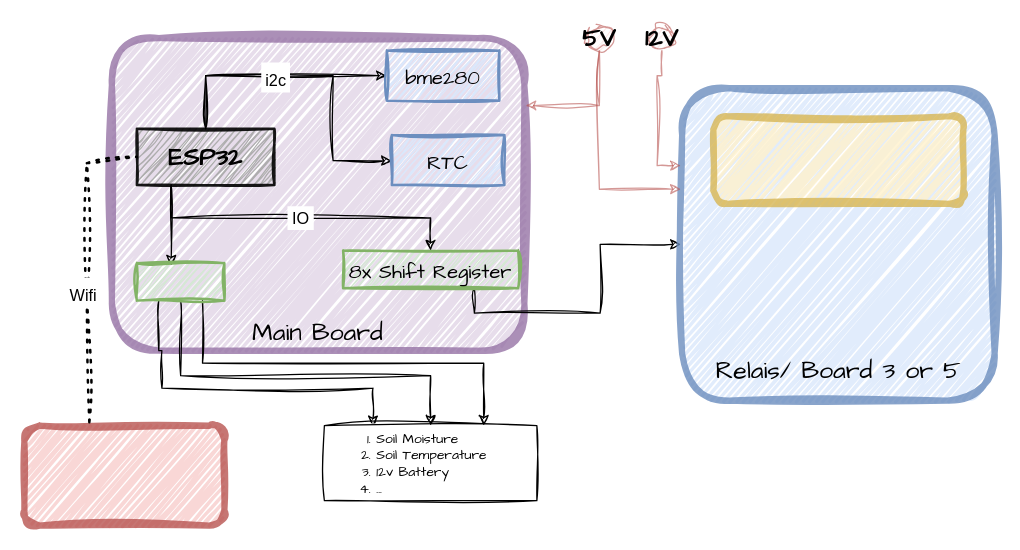
This 1020x550 diagram has some shape labels left out. Here are the shapes that lost their labels. From the top down, the centre of each, then its label:
the point at 838,159: Solenoids and Pumps
the point at 180,281: sensors
the point at 124,475: Raspberry Pi
